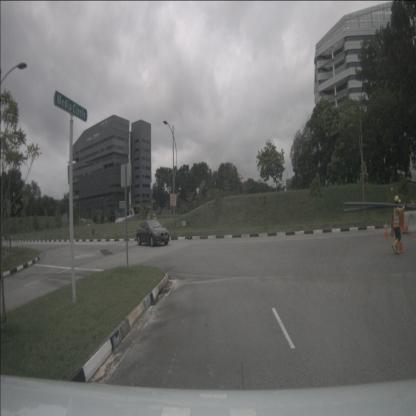movable_object-barrier: (402, 210, 416, 233), (391, 213, 405, 236)
movable_object-trafficcone: (392, 227, 398, 248), (398, 232, 404, 252), (404, 216, 410, 233), (384, 222, 388, 239)
vehicle-car: (137, 219, 170, 247)
